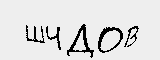В: (120, 22, 139, 51)
Д: (64, 19, 93, 60)
О: (95, 22, 124, 55)
Ч: (44, 21, 67, 54)
Ш: (21, 21, 47, 46)
